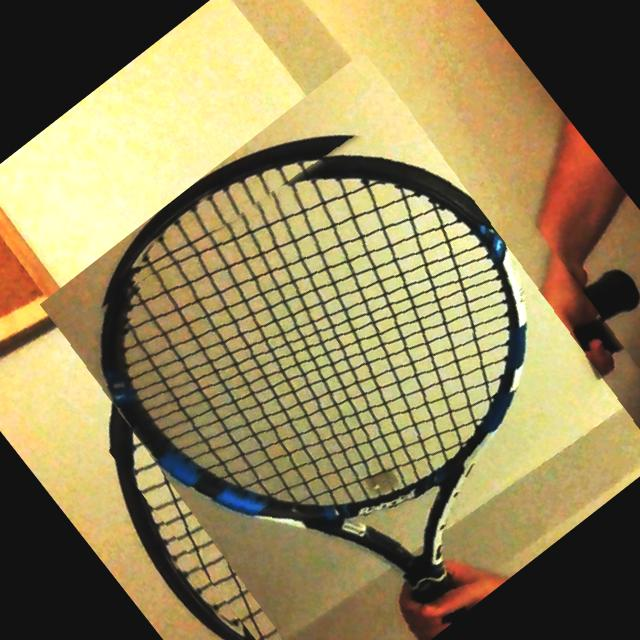TennisRacket: (33, 57, 640, 640)
